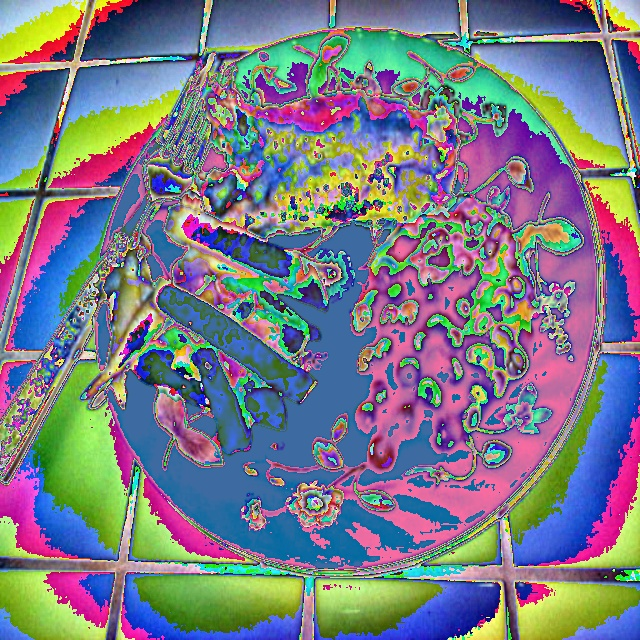background: (79, 87, 536, 471)
